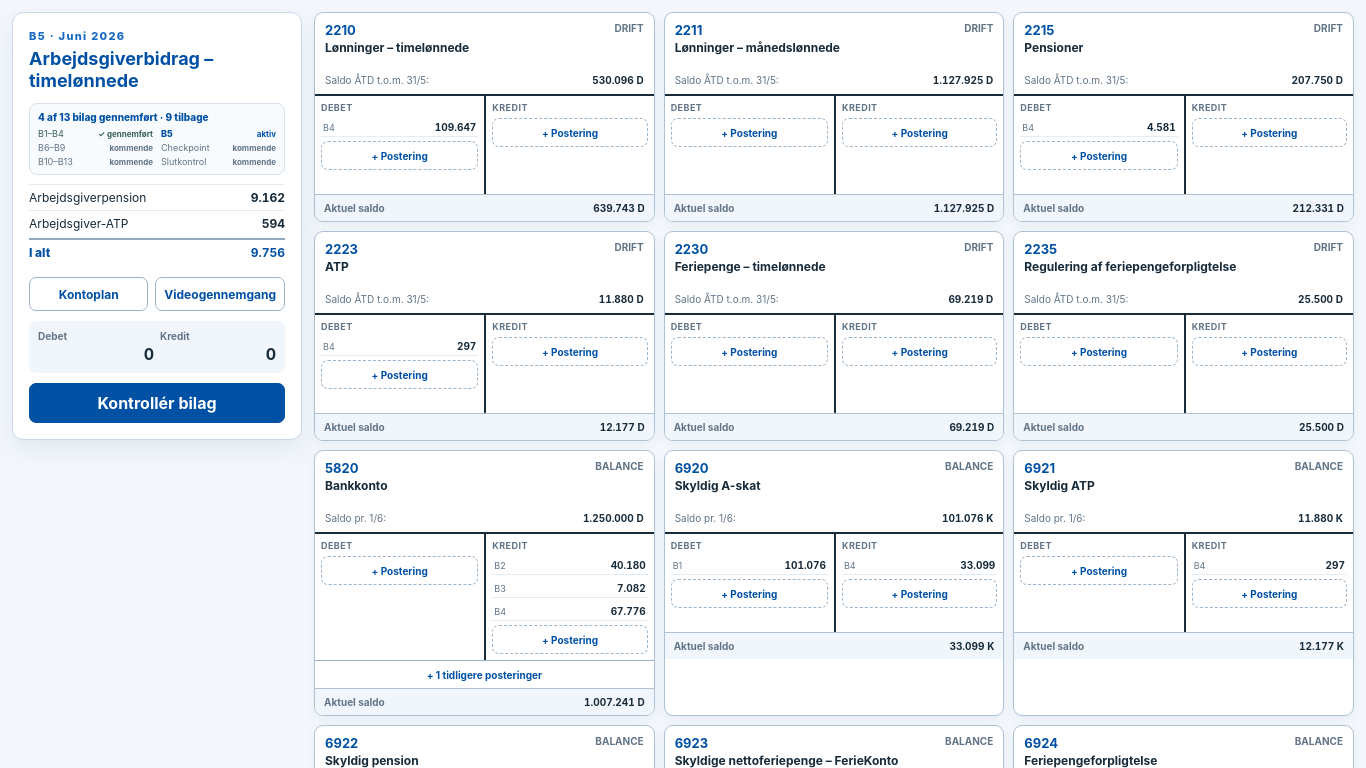
Scenario: J3B Niveau 2 workspace › komprimerer historik til tre rækker og viser fuld elevhistorik i overlay
Click the button "+ 1 tidligere posteringer" at (484, 674), box top-left (315, 660), bottom-right (654, 688)
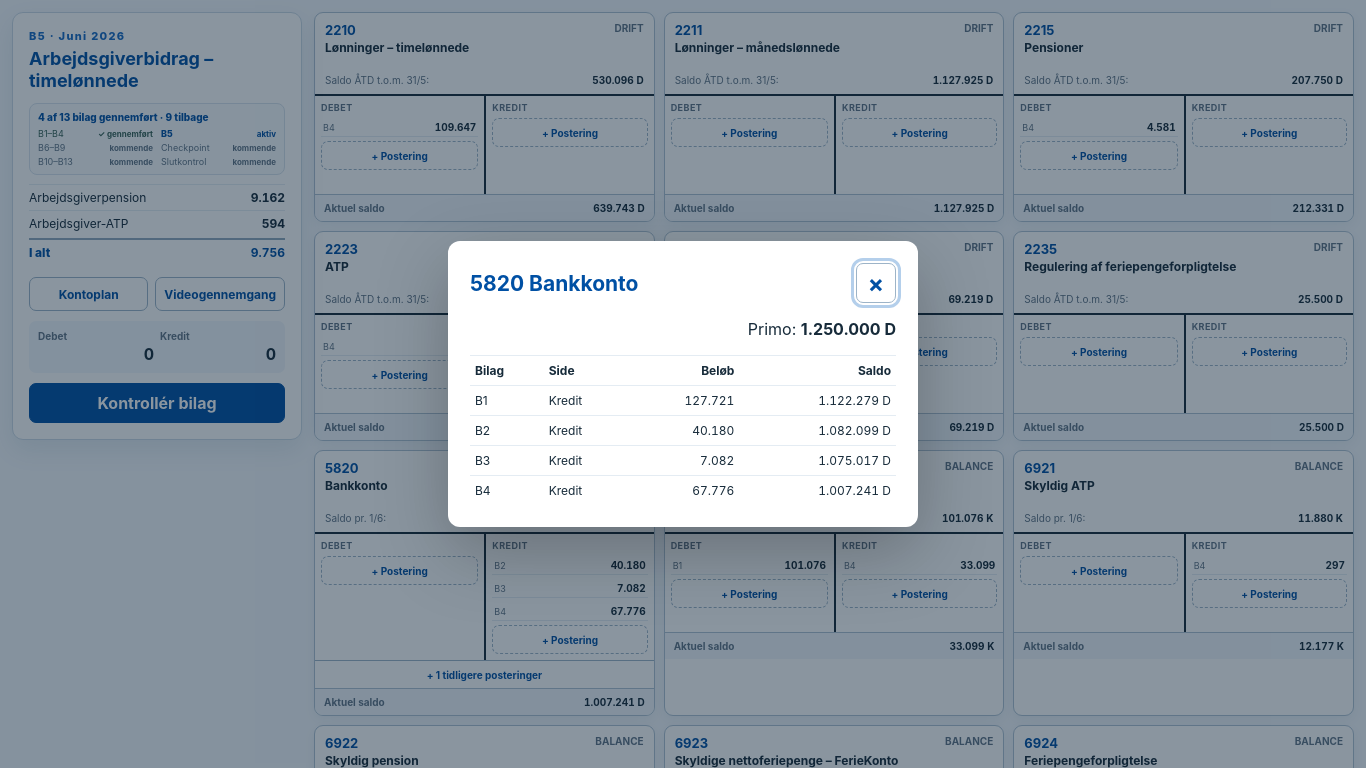
Now the number of rows is 5, box top-left (470, 356), bottom-right (896, 386); top-left (470, 386), bottom-right (896, 416); top-left (470, 416), bottom-right (896, 446); top-left (470, 446), bottom-right (896, 476); top-left (470, 476), bottom-right (896, 505)
